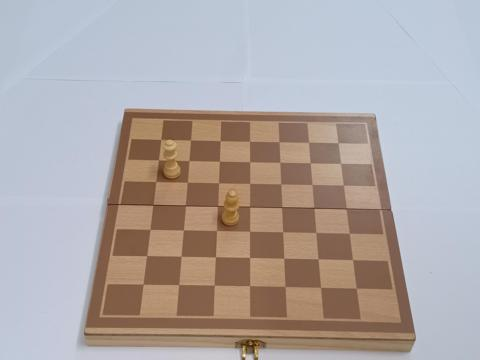xcorner: (157, 137, 167, 146), (152, 179, 162, 188), (149, 202, 159, 211), (146, 227, 156, 236), (184, 179, 193, 189), (175, 282, 185, 291), (216, 138, 226, 147), (211, 282, 220, 292), (246, 138, 255, 148), (246, 255, 256, 264), (277, 181, 286, 191), (279, 229, 289, 238), (304, 140, 314, 149), (306, 160, 316, 169), (310, 205, 320, 214), (318, 284, 327, 294), (339, 183, 349, 192), (342, 206, 352, 215), (346, 230, 355, 240), (155, 157, 164, 166), (143, 253, 152, 262), (140, 281, 149, 290), (187, 137, 196, 146), (185, 158, 194, 167), (182, 203, 191, 212), (180, 227, 189, 236), (178, 254, 187, 263), (216, 158, 225, 167), (215, 180, 224, 189), (214, 203, 223, 212), (213, 228, 222, 237), (212, 254, 221, 263), (246, 159, 255, 168), (246, 181, 255, 190), (246, 204, 255, 213), (246, 229, 255, 238), (247, 283, 256, 292), (275, 139, 284, 148), (276, 160, 285, 169), (278, 205, 287, 214), (281, 256, 290, 265), (282, 284, 291, 293), (308, 182, 317, 191), (313, 230, 322, 239), (315, 256, 324, 265), (334, 140, 343, 149), (337, 161, 346, 170), (349, 257, 358, 266), (353, 285, 362, 294)
